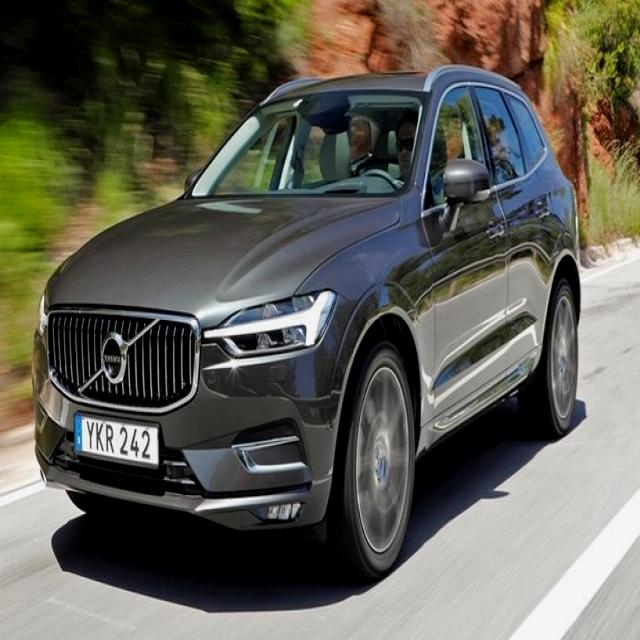car: (29, 61, 582, 587)
illegal_plate: (72, 411, 162, 476)
